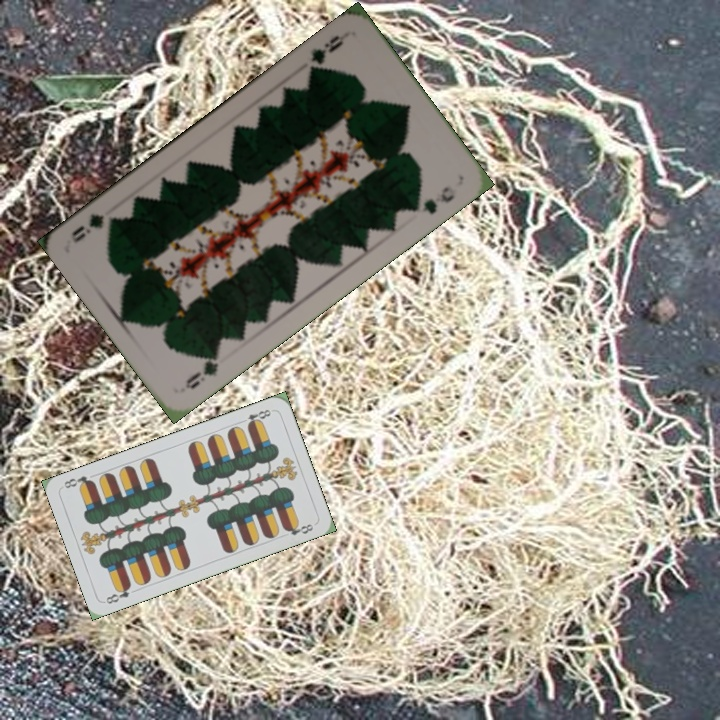E8: (236, 405, 273, 429), (102, 580, 134, 606)
G9: (305, 28, 351, 77), (181, 347, 222, 392)
